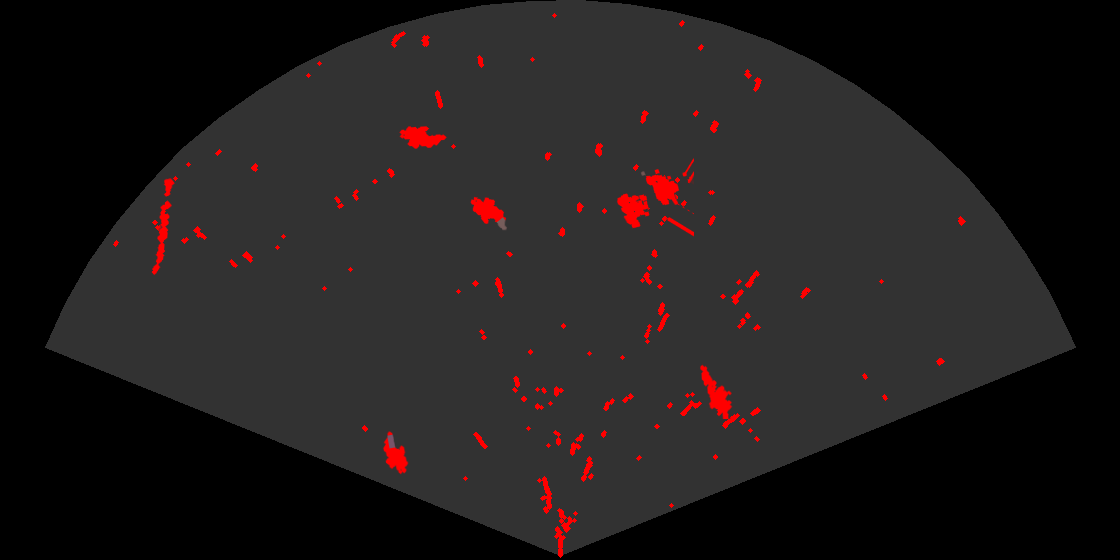AUV: (469, 195, 508, 231), (381, 430, 410, 476), (398, 125, 448, 150)
cage: (615, 157, 694, 238)
chain: (150, 176, 176, 277)
frogman: (699, 362, 734, 419)
